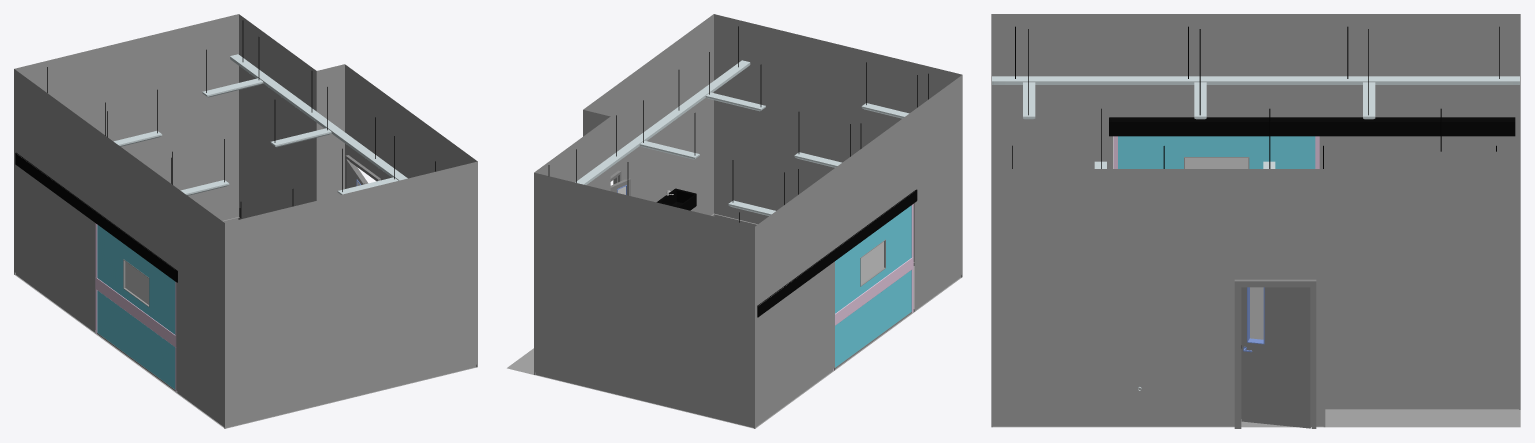
File: heräämö.fbx
3 views of the same model, side by side, from view 1: azimuth 30°, elevation 25°; view 2: azimuth 150°, elevation 25°; view 3: azimuth 270°, elevation 25° (orthographic). The views are drawn at different scales.
Parts seen in each view (by area): view 1: Huone, Sisennys1, Yläsuojus.001, Ylälista 1, Metallisuojus, Karmi, Lamppu.002, Lamppu; view 2: Huone, Sisennys1, Yläsuojus.001, Ylälista 1, Metallisuojus, Karmi, LavuaariMetallinen, Lamppu.003, Lamppu; view 3: Huone, Ovi, Yläsuojus.001, Sisennys1, Ylälista 1.001, Pikkuovi, Lasi, Karmi.
Boxes of the visible parts, x1,y1,x2,y2 form: Huone: (14,14,477,428); Sisennys1: (97,224,175,389); Yläsuojus.001: (15,152,177,282); Ylälista 1: (230,54,407,180); Metallisuojus: (95,223,176,391); Karmi: (125,261,148,304); Lamppu.002: (202,78,263,97); Lamppu: (270,128,331,147); Huone: (507,14,962,428); Sisennys1: (835,205,911,367); Yläsuojus.001: (757,189,917,317); Ylälista 1: (575,60,750,184); Metallisuojus: (833,204,913,370); Karmi: (861,241,883,283); LavuaariMetallinen: (656,188,696,210); Lamppu.003: (705,92,765,111); Lamppu: (639,140,699,159); Huone: (991,14,1520,427); Ovi: (1241,287,1311,428); Yläsuojus.001: (1109,117,1515,136); Sisennys1: (1118,136,1315,168); Ylälista 1.001: (992,76,1519,84); Pikkuovi: (1234,279,1316,428); Lasi: (1250,287,1263,339); Karmi: (1185,158,1248,168).
Bounding box in the file's own units: 650 × 457 × 355.
